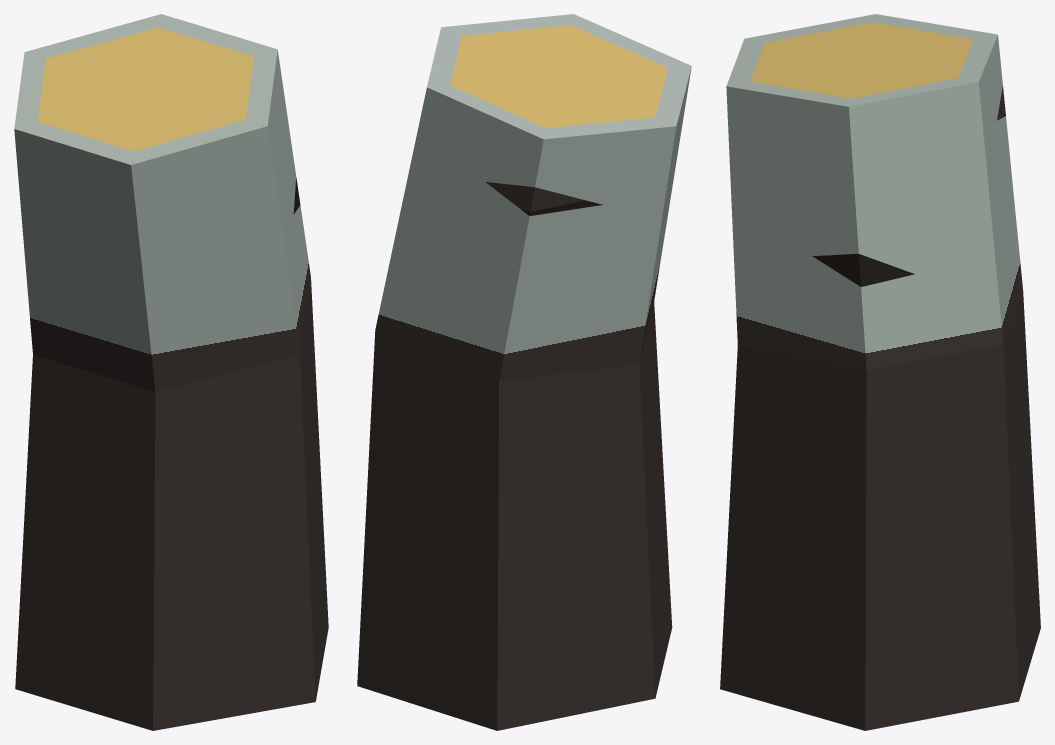
File: BirchStump.fbx
3 views of the same model, side by side, from view 1: azimuth 30°, elevation 25°; view 2: azimuth 150°, elevation 25°; view 3: azimuth 270°, elevation 25° (orthographic).
Parts seen in each view (by area): view 1: BirchStump; view 2: BirchStump; view 3: BirchStump.
Boxes of the visible parts, x1,y1,x2,y2 form: BirchStump: (14,14,328,730); BirchStump: (357,14,691,730); BirchStump: (720,14,1040,730).
Bounding box in the file's own units: 0.7639 × 1.41 × 0.6908.
